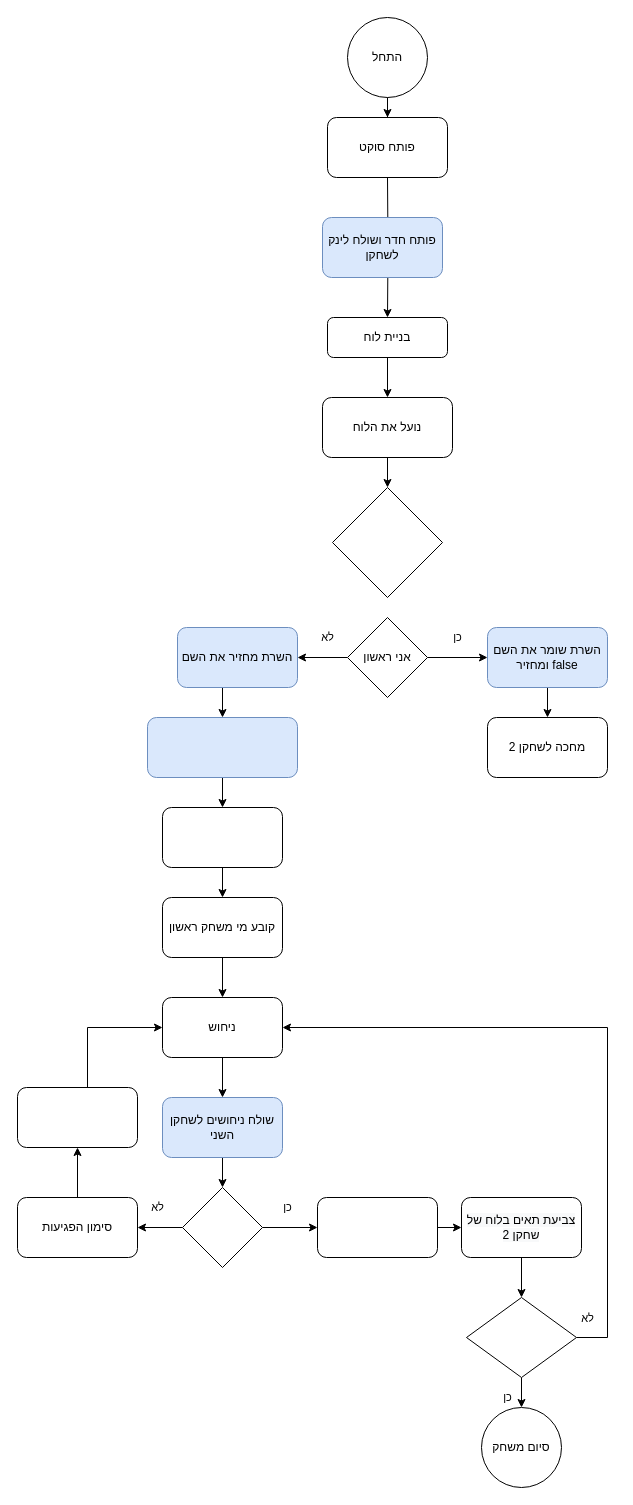
The diagram is 633 pixels wide and 1505 high, and some of its shapes have lost their labels. Here are the shapes that lost their labels. From the top down, the centre of each, then its label:
point (387, 542): מתחיל משחק דרך הלינק
point (222, 747): שולח לשחקן 1 את השם של שחקן 2
point (222, 837): פותח את האפשרות ללוח הימני לשני השחקנים
point (77, 1117): משנה תור שחקן
point (222, 1227): האם הייתה פגיעה
point (377, 1227): צביעת תאים בלוח של שחקן 1
point (521, 1337): האם כל הסירות הושמדו?
